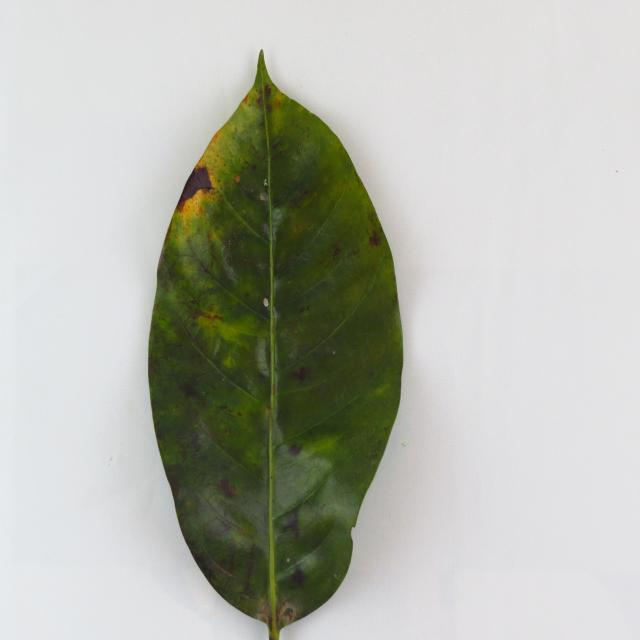DeficienciaNutricional-Potasio: (149, 52, 402, 638)
